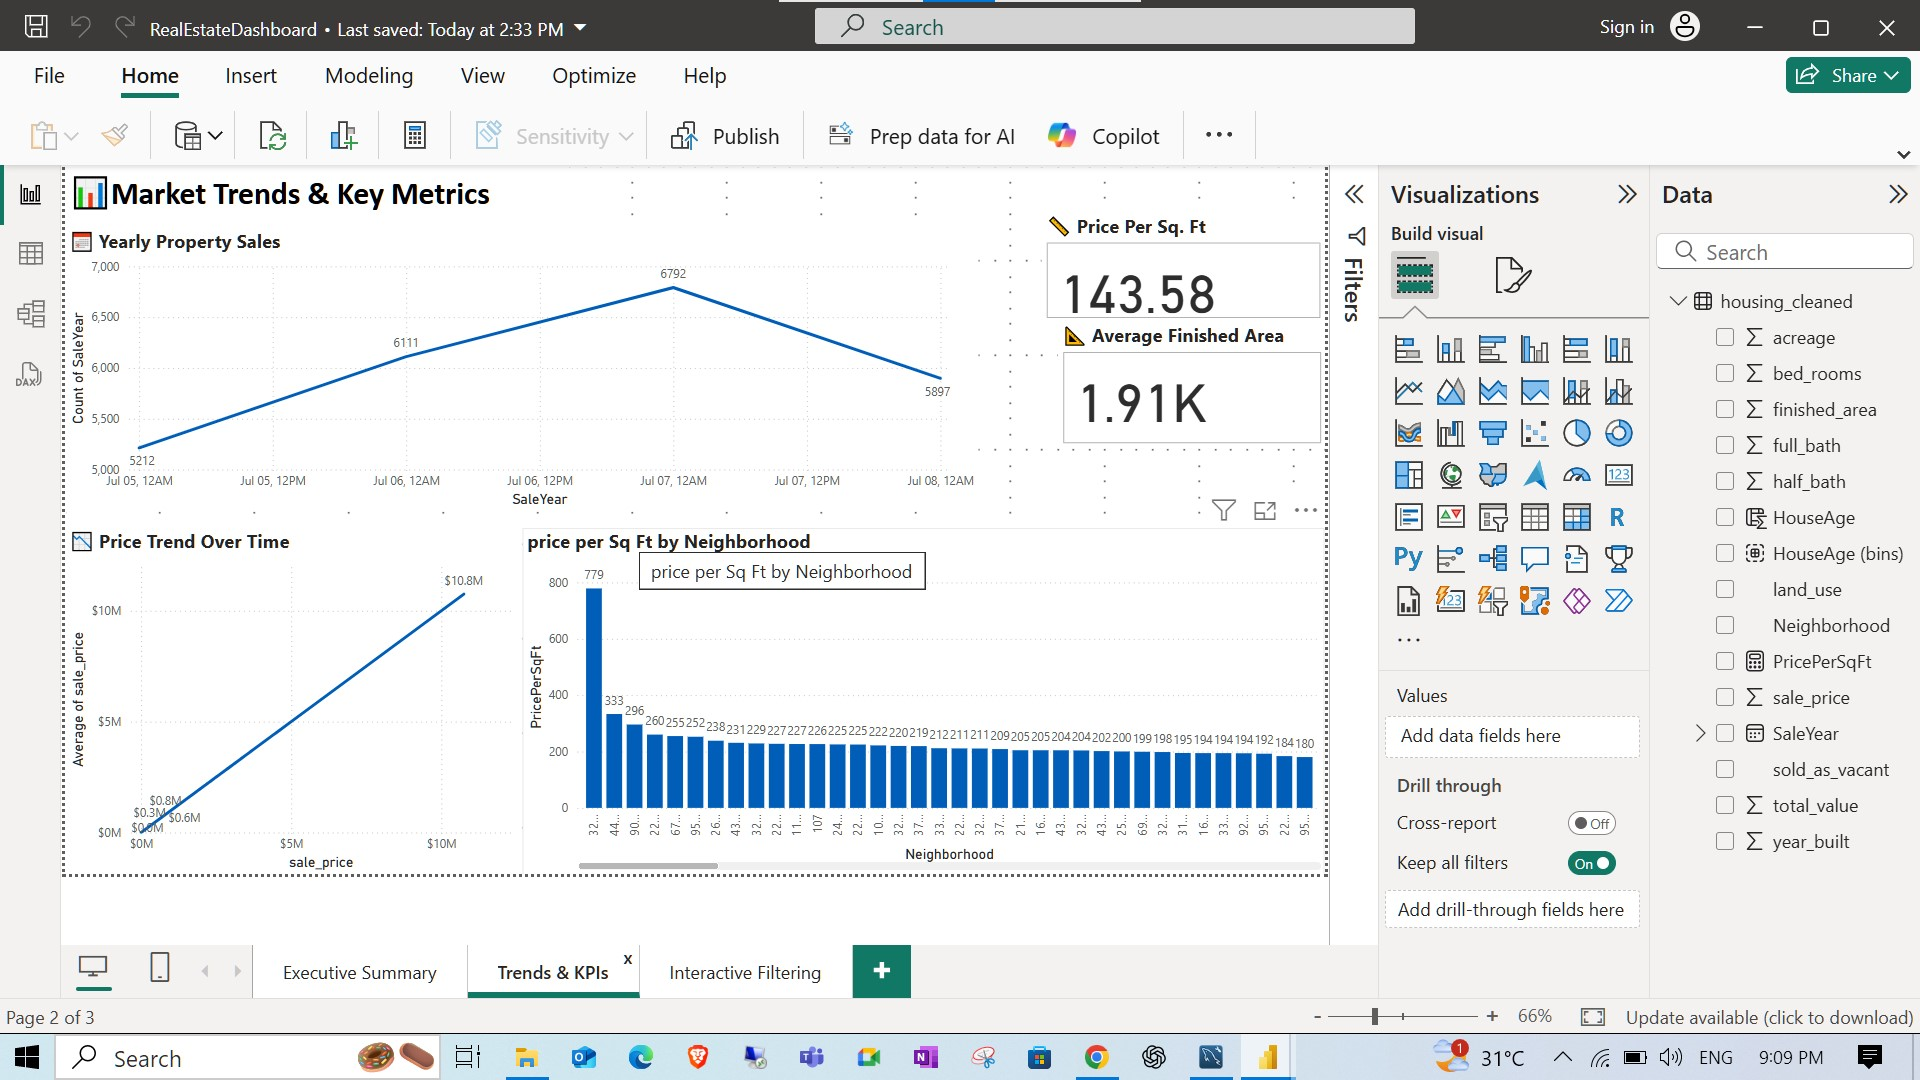

The dashboard page shown, as its layout file describes it:
{"tool":"powerbi","page":{"name":"Trends & KPIs","canvas":[1280,720],"ordinal":1},"visuals":[{"type":"textbox","box":[0,0,512,64],"z":0},{"type":"lineChart","title":"📉\tPrice Trend Over Time","fields":{"Category":["real_estate_db housing_cleaned.sale_price"],"Y":["Avg(real_estate_db housing_cleaned.sale_price)"]},"box":[0,368,464,352],"z":1000},{"type":"lineChart","title":"📅\tYearly Property Sales","fields":{"Category":["real_estate_db housing_cleaned.SaleYear"],"Y":["CountNonNull(real_estate_db housing_cleaned.SaleYear)"]},"box":[0,64,928,288],"z":2000},{"type":"columnChart","title":"price per Sq Ft by Neighborhood","fields":{"Y":["housing_cleaned.PricePerSqFt"],"Category":["housing_cleaned.Neighborhood"]},"box":[464,368,816,352],"z":3000},{"type":"cardVisual","title":"📏\tPrice Per Sq. Ft","fields":{"Data":["housing_cleaned.PricePerSqFt"]},"box":[992,48,288,112],"z":4000},{"type":"cardVisual","title":"📐\tAverage Finished Area","fields":{"Data":["Avg(housing_cleaned.finished_area)"]},"box":[1008,160,272,128],"z":5000}]}

Visuals, with their boxes on the page's 1280x720 design canvas (x1, y1, x2, y2). These are canvas units, not pixel positions in the 1920x1080 screenshot, which may show the page scaled, cropped or inside an application window:
textbox: crop(0, 0, 512, 64)
"📉	Price Trend Over Time" lineChart: crop(0, 368, 464, 720)
"📅	Yearly Property Sales" lineChart: crop(0, 64, 928, 352)
"price per Sq Ft by Neighborhood" columnChart: crop(464, 368, 1280, 720)
"📏	Price Per Sq. Ft" cardVisual: crop(992, 48, 1280, 160)
"📐	Average Finished Area" cardVisual: crop(1008, 160, 1280, 288)
